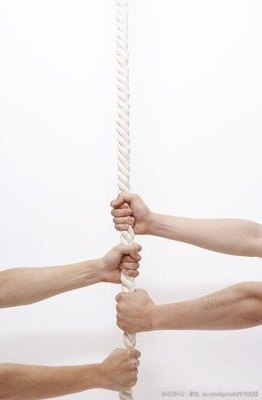9/可回收垃圾/绳子: (115, 1, 132, 192), (119, 274, 135, 292), (120, 230, 135, 245), (121, 332, 135, 347), (118, 388, 134, 400)
